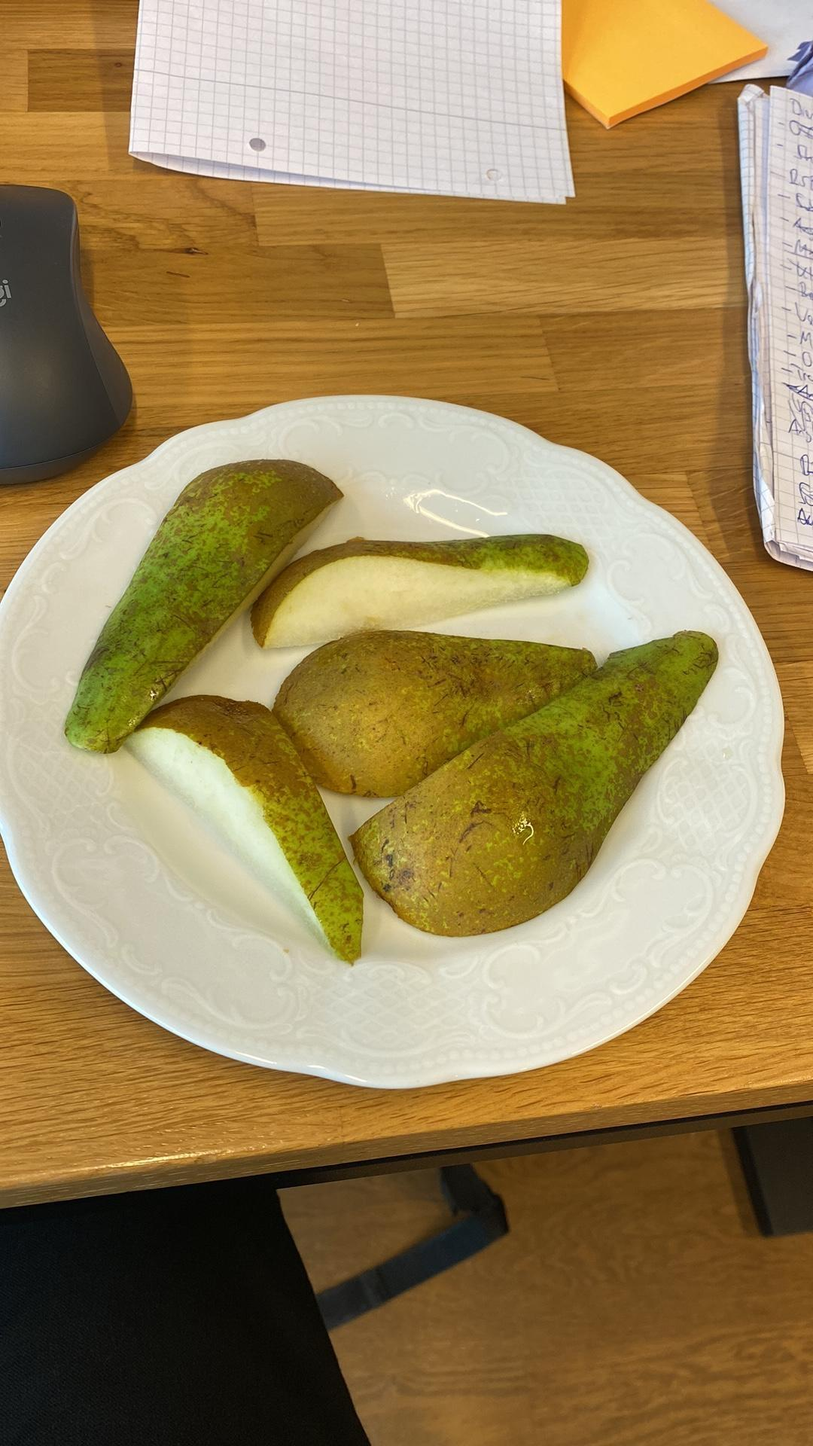pear: (352, 619, 721, 938), (53, 456, 349, 761), (102, 687, 369, 962), (279, 633, 600, 801), (253, 525, 608, 652)
